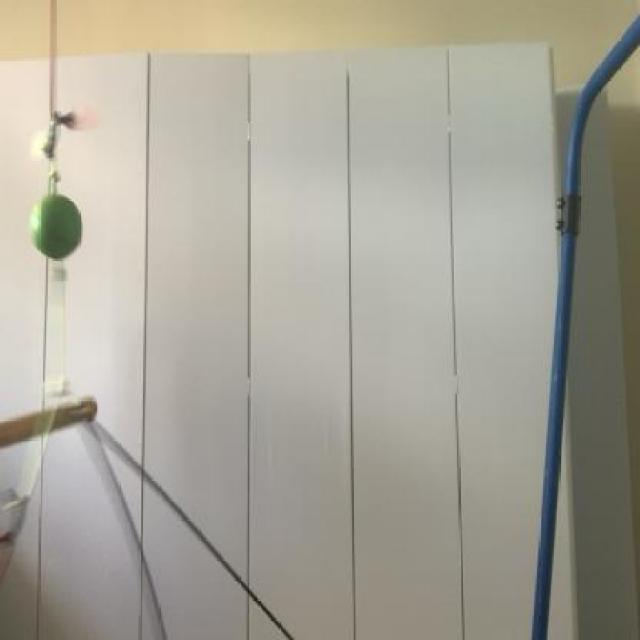baseball: (28, 192, 88, 262)
